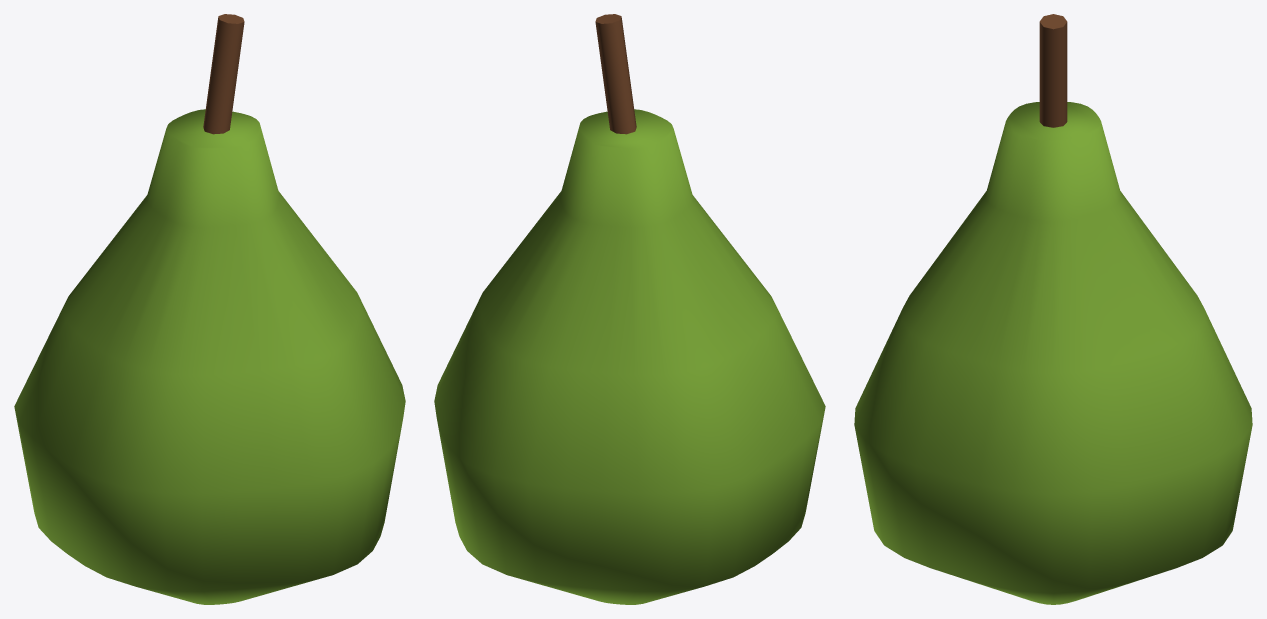
File: pear.glb
3 renders of one model, left to right at view 1: azimuth 30°, elevation 25°; view 2: azimuth 150°, elevation 25°; view 3: azimuth 270°, elevation 25°, orthographic.
Visible parts, largest first — view 1: edible_pear, edible_stem.004; view 2: edible_pear, edible_stem.004; view 3: edible_pear, edible_stem.004.
Boxes of the visible parts, left/top/right/bottom form: edible_pear: left=14, top=109, right=405, bottom=604; edible_stem.004: left=203, top=14, right=244, bottom=134; edible_pear: left=434, top=109, right=825, bottom=604; edible_stem.004: left=595, top=14, right=636, bottom=134; edible_pear: left=854, top=102, right=1252, bottom=604; edible_stem.004: left=1039, top=14, right=1067, bottom=127.
Bounding box in the file's own units: 0.1 × 0.1605 × 0.1005.
